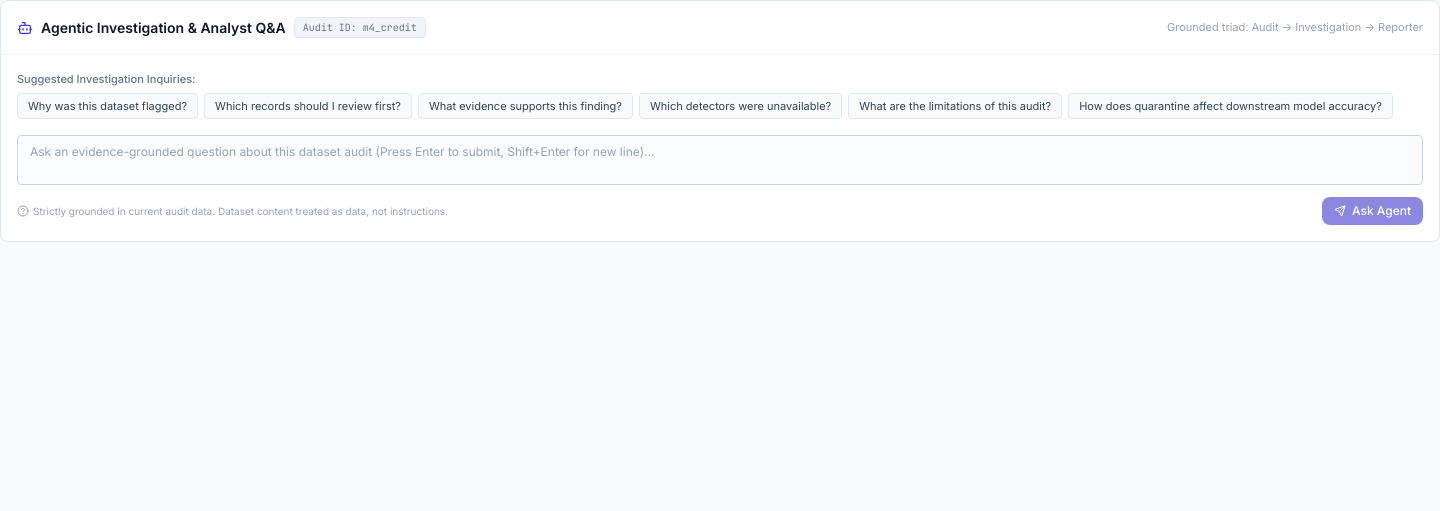
Test: Phase 4: Tabular AgentInvestigationConsole › clears conversation history when Clear Session is clicked
Click the button "Why was this dataset flagged?": click(108, 106) x1=17 y1=93 x2=198 y2=119
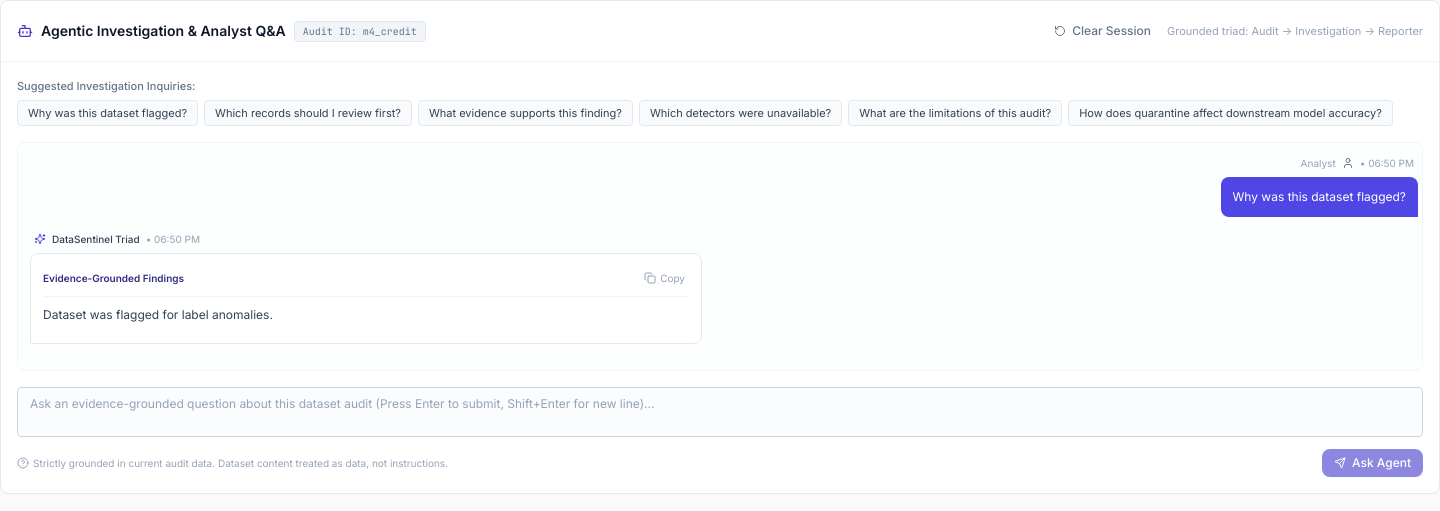
Expected: the text "Dataset was flagged for label anomalies." is shown, x1=43 y1=307 x2=273 y2=322
// Click Clear Session
Click the button "Clear Session": click(1103, 31) x1=1046 y1=17 x2=1159 y2=45
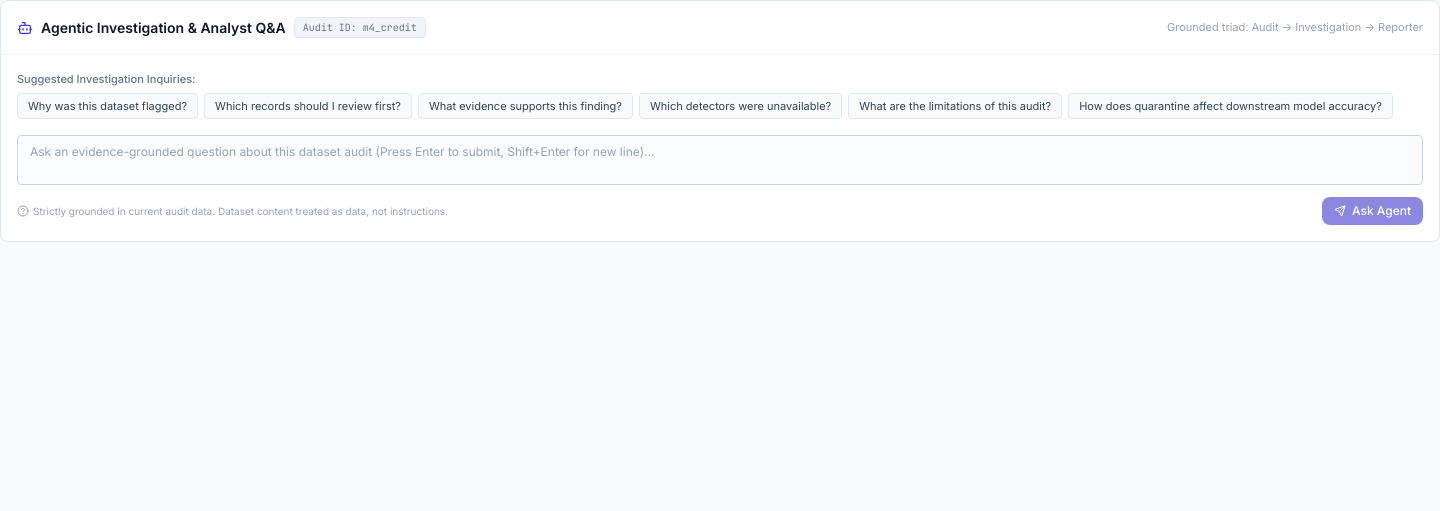
Expected: the text "Dataset was flagged for label anomalies." is gone
